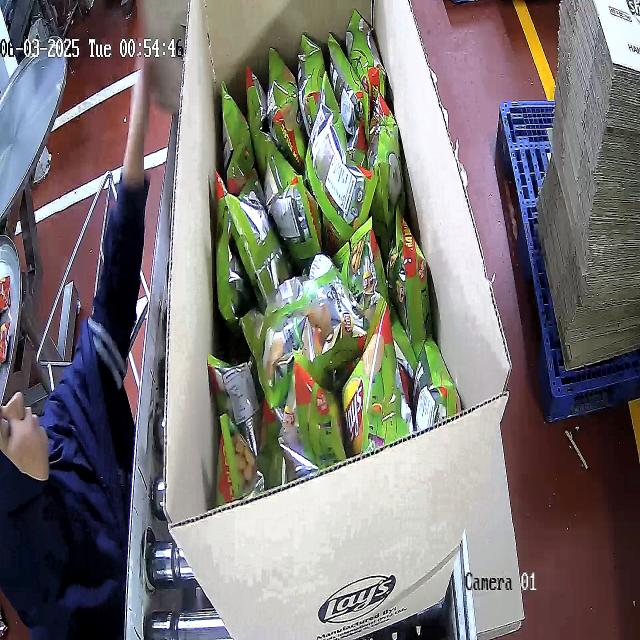YOGURT_HERB: (211, 11, 460, 500)
